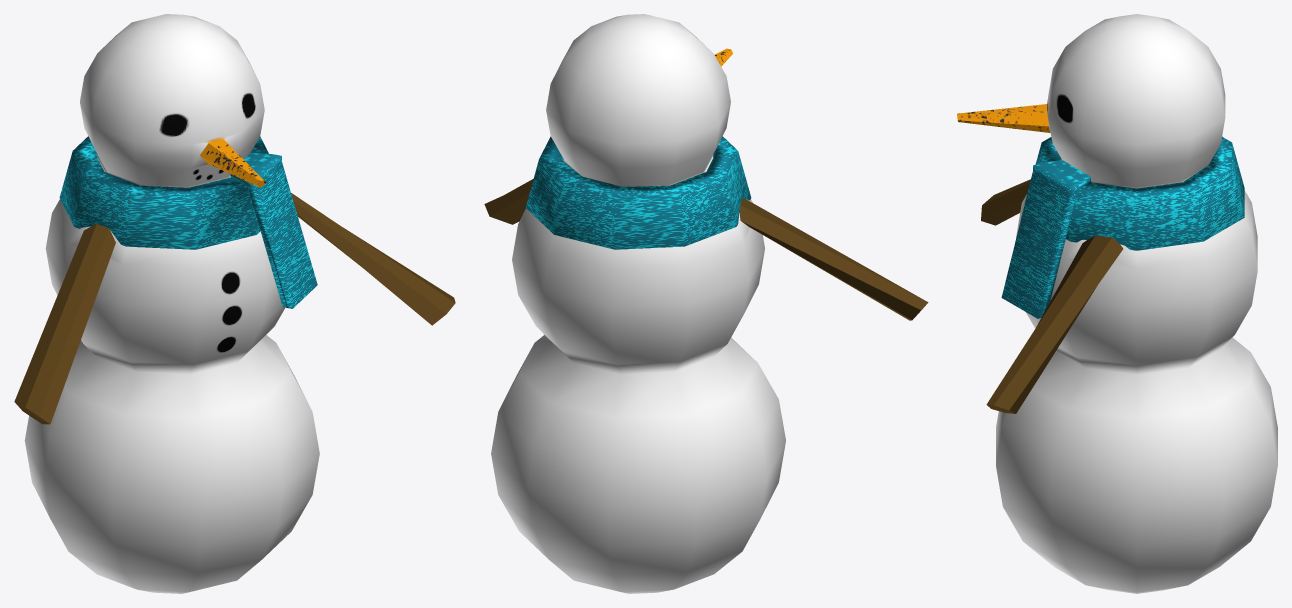
The model's file is nice snowman model.fbx.
The picture shows the model from 3 angles, left to right: view 1: azimuth 30°, elevation 25°; view 2: azimuth 150°, elevation 25°; view 3: azimuth 270°, elevation 25°; orthographic projection.
Parts seen in each view (by area): view 1: nice_snoman, nice_scarf; view 2: nice_snoman, nice_scarf; view 3: nice_snoman, nice_scarf.
Part boxes in pixels (<box>): nice_snoman: <box>14,14,455,593</box>; nice_scarf: <box>59,136,317,308</box>; nice_snoman: <box>484,14,928,593</box>; nice_scarf: <box>525,136,751,249</box>; nice_snoman: <box>957,14,1277,593</box>; nice_scarf: <box>1001,136,1244,318</box>.
Size of the model in its own units: 3.41 by 4.16 by 2.16.
